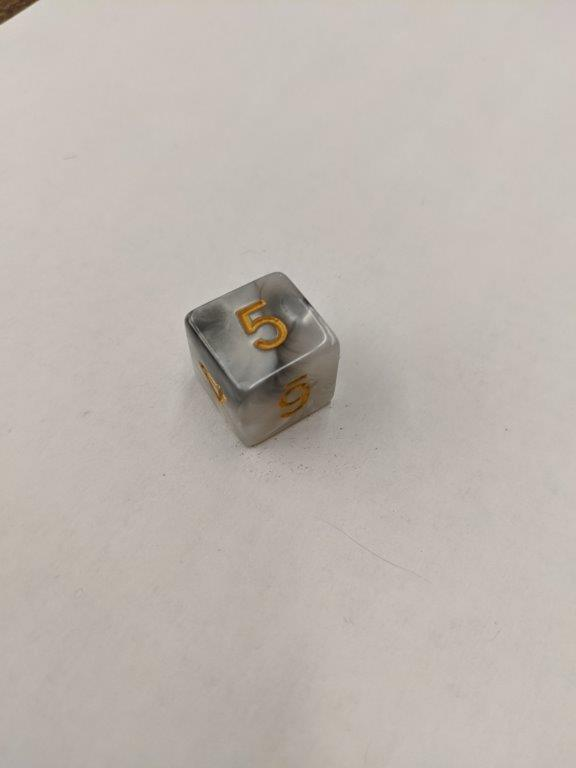d6-5: (186, 269, 340, 452)
